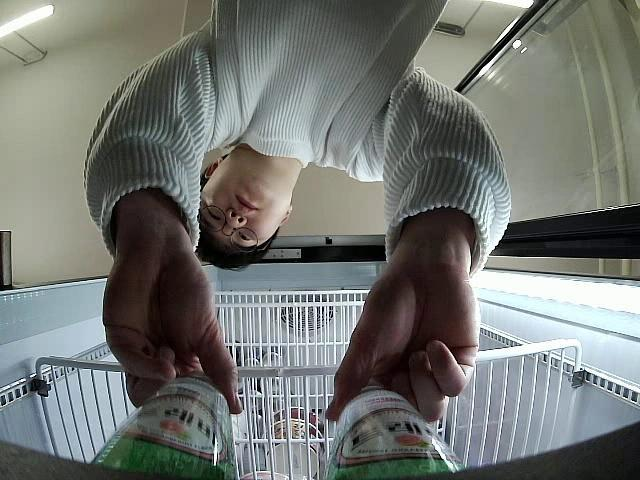18_trevi: (90, 372, 230, 480), (321, 385, 461, 480)
